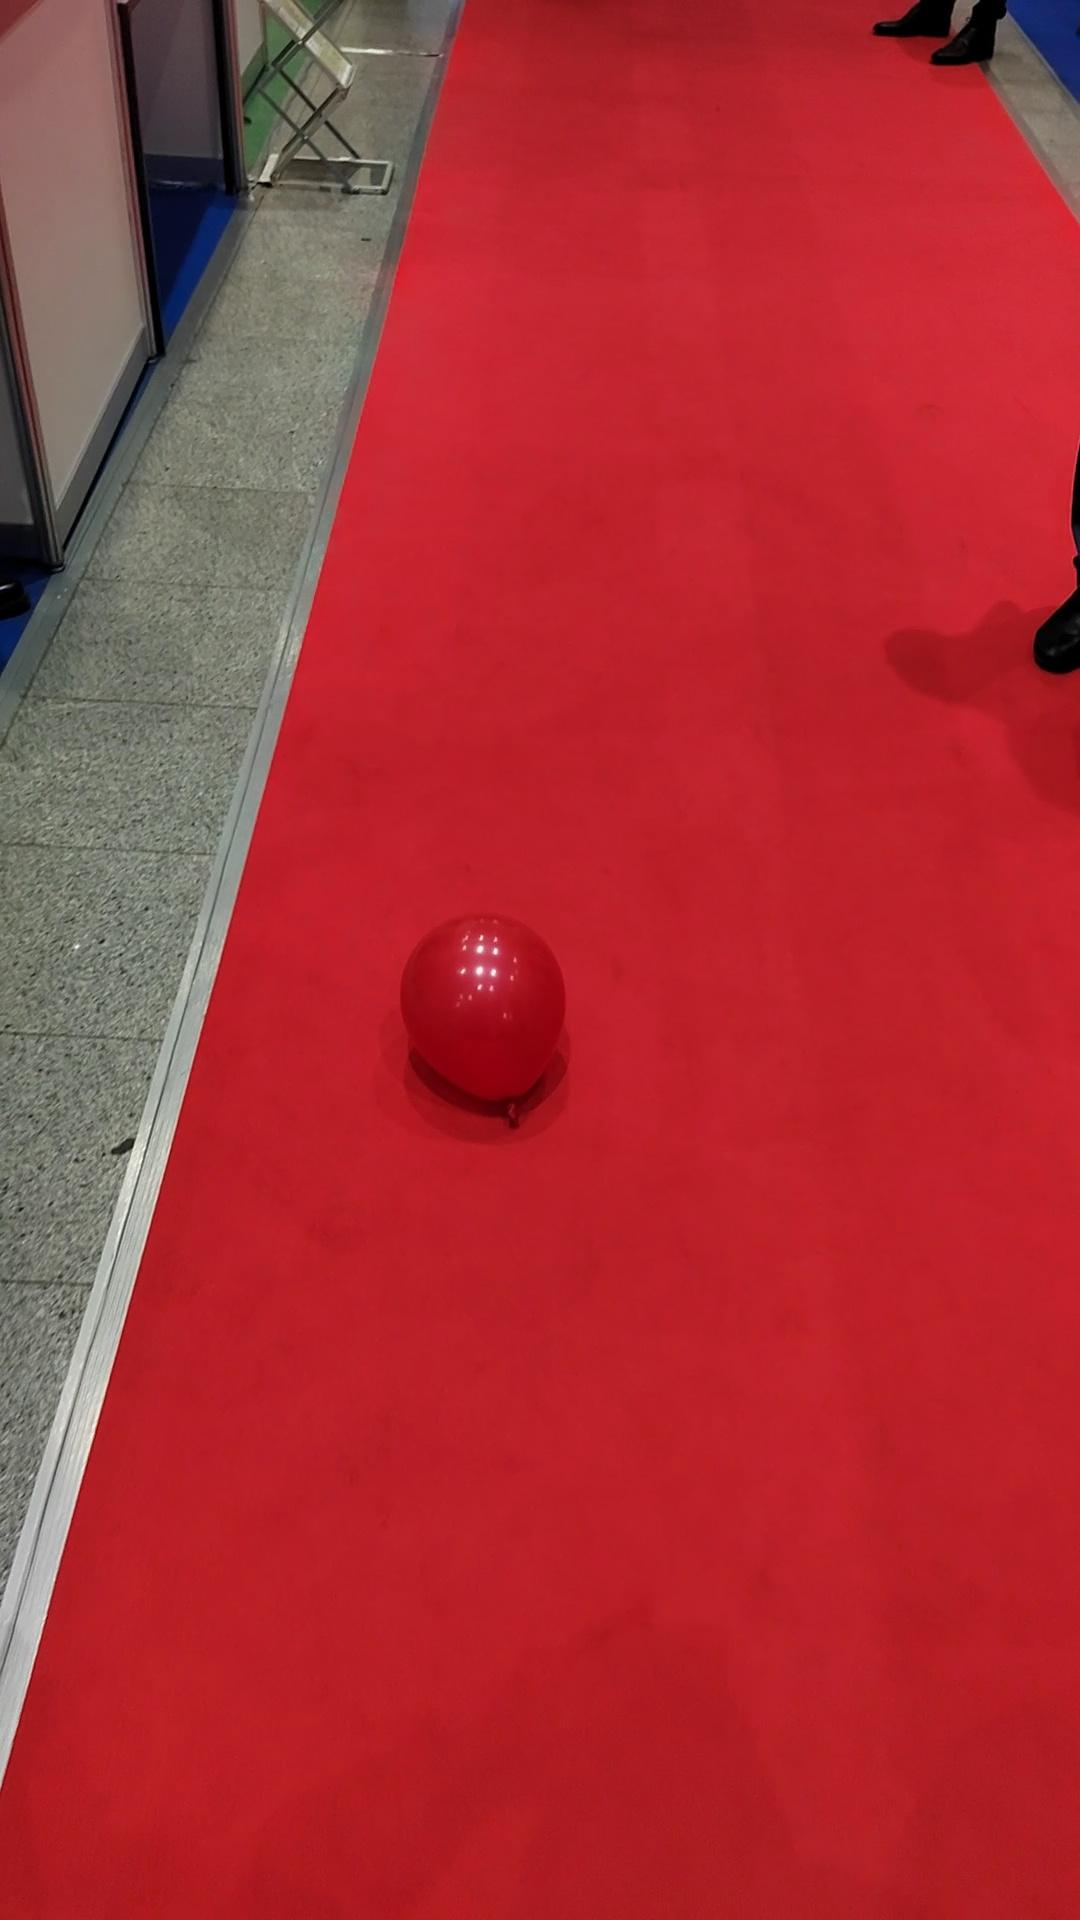red: (400, 915, 568, 1106)
